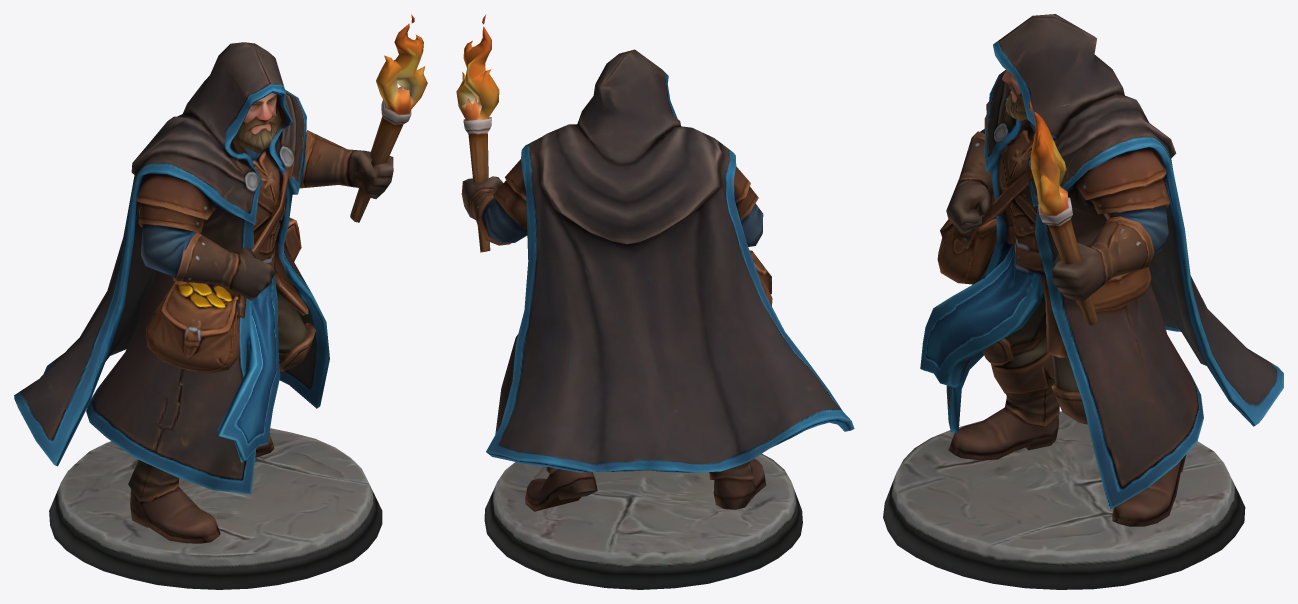
File: hero7.glb
3 renders of one model, left to right at view 1: azimuth 30°, elevation 25°; view 2: azimuth 150°, elevation 25°; view 3: azimuth 270°, elevation 25°, orthographic. The views are drawn at different scales.
Visible parts, largest first — view 1: geometry_0; view 2: geometry_0; view 3: geometry_0.
Boxes of the visible parts, box(x1,y1,x2,y2) form: geometry_0: box(14, 14, 427, 589); geometry_0: box(456, 14, 854, 589); geometry_0: box(883, 14, 1283, 589).
Bounding box in the file's own units: 0.8423 × 0.9536 × 0.6783.
1 material, 1 textured.
